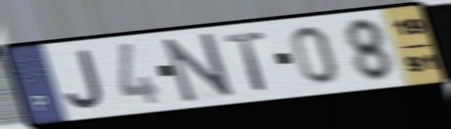0: (288, 23, 344, 88)
4: (116, 41, 162, 109)
8: (343, 16, 396, 85)
J: (64, 47, 107, 112)
N: (160, 31, 238, 105)
T: (221, 30, 270, 94)
